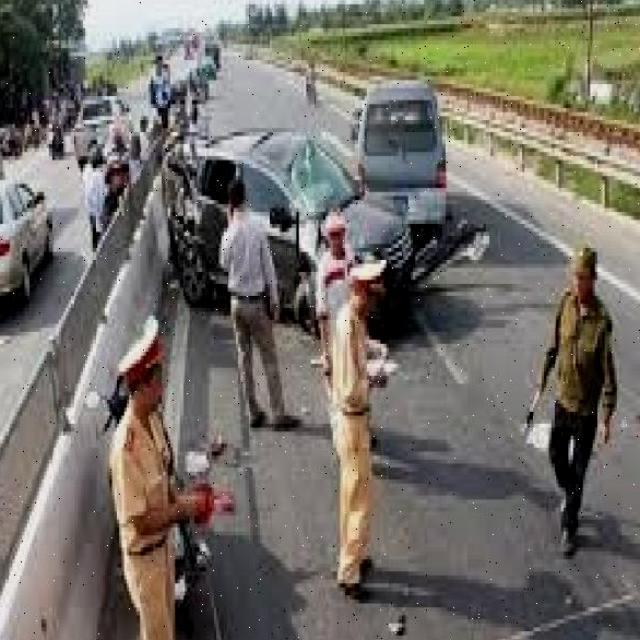accident: (154, 93, 494, 348)
